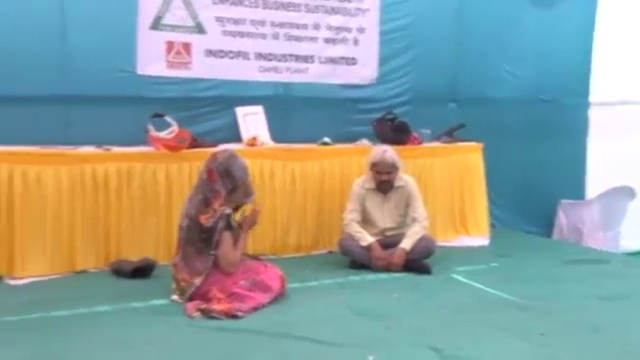helmet_off: (197, 149, 258, 208), (367, 149, 400, 193)
person: (171, 148, 288, 322), (333, 145, 440, 279)
